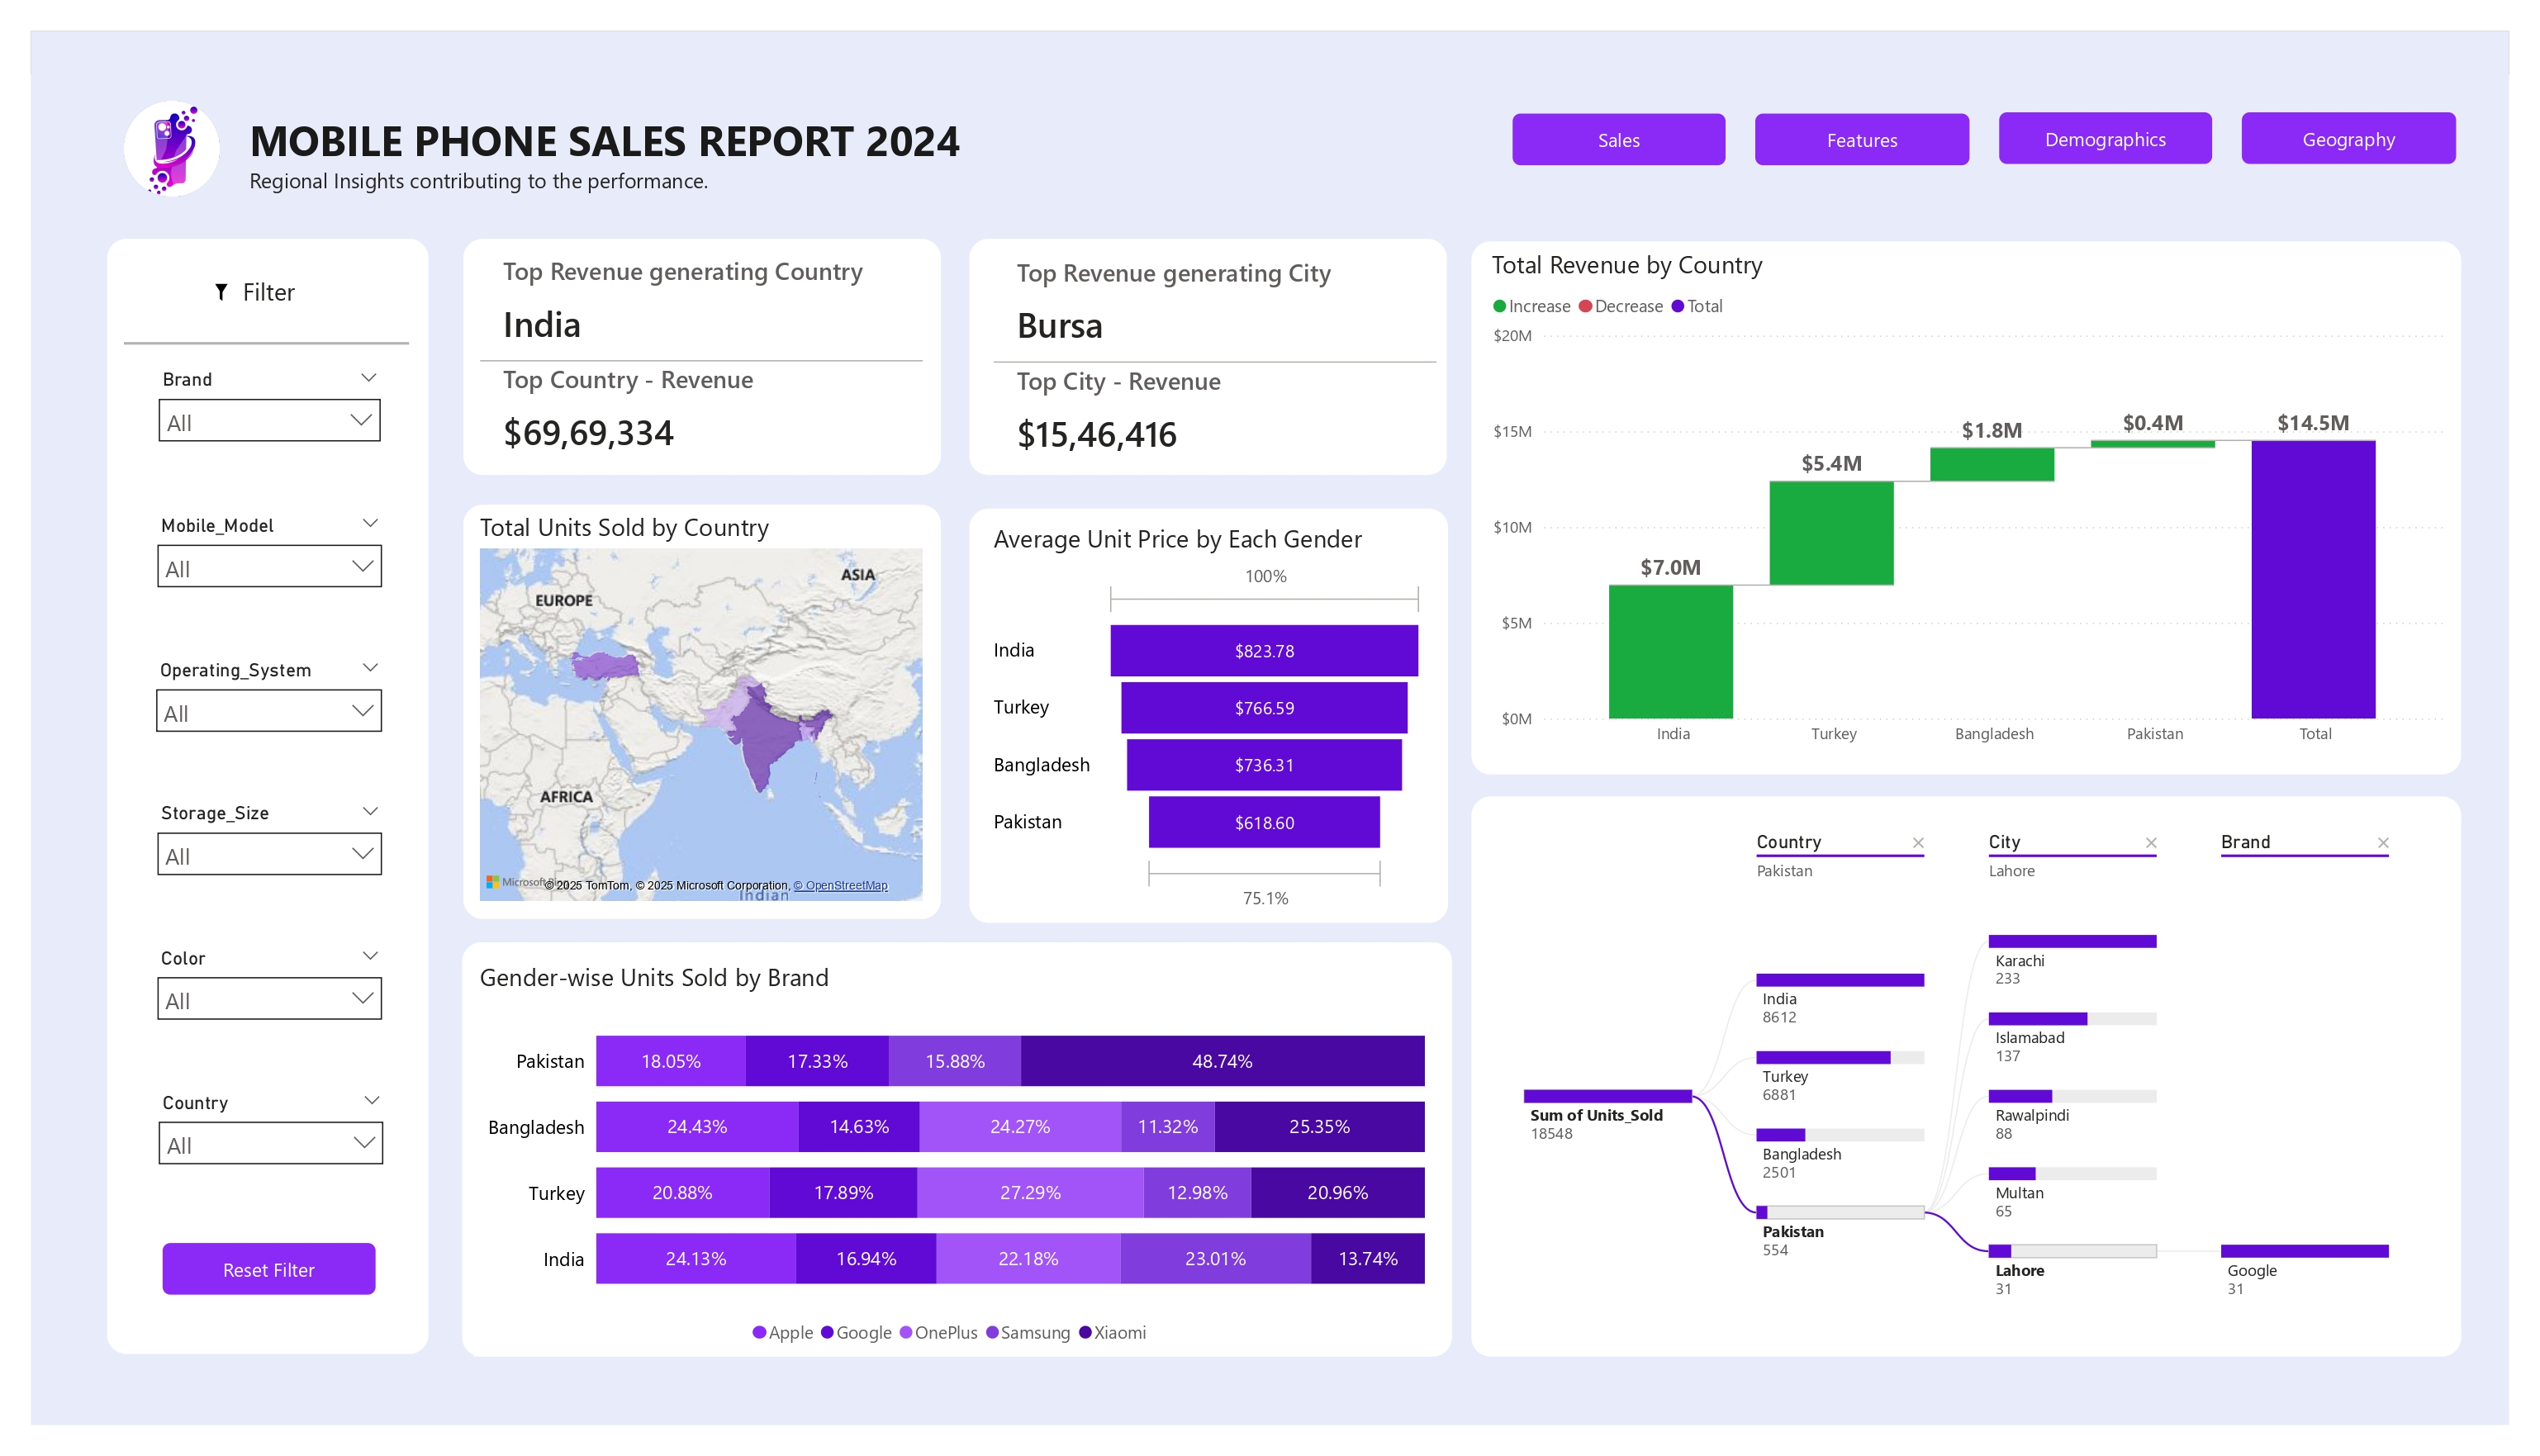

The page's visual inventory and layout, read from the dashboard file:
{"tool":"powerbi","page":{"name":"Geography","canvas":[1920,1080],"ordinal":3},"visuals":[{"type":"textbox","title":"Filter","box":[1116,593.3,766.7,433.3],"z":0},{"type":"textbox","title":"Filter","box":[334.9,367.1,370.5,320.7],"z":1000},{"type":"textbox","title":"Filter","box":[58.7,161.3,249.3,864],"z":2000},{"type":"shape","box":[72,166.7,221.3,150.7],"z":3000},{"type":"textbox","box":[164,57,616,76],"z":4000,"group":"g1"},{"type":"textbox","title":"Filter","box":[334.7,161.3,370.7,182.7],"z":4000},{"type":"slicer","fields":{"Values":["Dim_Products.Brand"]},"box":[88.5,257.2,192.9,71.8],"z":5000},{"type":"slicer","fields":{"Values":["Dim_Products.Operating_System"]},"box":[87.4,481.7,194.2,70.5],"z":6000},{"type":"slicer","fields":{"Values":["Dim_Products.Storage_Size"]},"box":[87.9,593.3,193.7,70.5],"z":7000},{"type":"slicer","fields":{"Values":["Dim_Products.Color"]},"box":[87.9,705,193.7,70.5],"z":8000},{"type":"slicer","fields":{"Values":["Dim_Products.Mobile_Model"]},"box":[87.9,370.1,193.7,70.5],"z":9000},{"type":"slicer","fields":{"Values":["Dim_Locations.Country"]},"box":[88.5,816.6,194.2,70],"z":10000},{"type":"actionButton","box":[102.4,939,164.9,39.9],"z":13000},{"type":"cardVisual","fields":{"Data":["Dim_Locations.Top Revenue generating Country","Dim_Locations.Top Country - Revenue"]},"box":[342.7,166.7,353.3,177.3],"z":15000},{"type":"group","id":"g1","title":"Group 1","box":[164,57,616,76],"z":16000},{"type":"textbox","title":"Filter","box":[726.7,161.3,370.7,182.7],"z":17000},{"type":"cardVisual","fields":{"Data":["Dim_Locations.Top Revenue generating City","Dim_Locations.Top City - Revenue"]},"box":[741.3,168,353.3,178.7],"z":18000},{"type":"textbox","title":"Filter","box":[333.9,705.9,767.4,320.7],"z":19000},{"type":"textbox","title":"Filter","box":[727.1,369.8,370.5,320.7],"z":20000},{"type":"funnel","title":"Average Unit Price by Each Gender","fields":{"Y":["Avg(Fact_Sales.Price)"],"Category":["Dim_Locations.Country"]},"box":[741.3,380,344,308],"z":21000},{"type":"hundredPercentStackedBarChart","title":"Gender-wise Units Sold by Brand","fields":{"Category":["Dim_Locations.Country"],"Y":["Sum(Fact_Sales.Units_Sold)"],"Series":["Fact_Sales.Brand"]},"box":[342.7,720,742.7,306.7],"z":22000},{"type":"filledMap","fields":{"Category":["Dim_Locations.Country"]},"box":[342.7,370.7,353.3,308],"z":23000},{"type":"decompositionTreeVisual","fields":{"ExplainBy":["Dim_Locations.Country","Dim_Locations.City","Fact_Sales.Brand"],"Analyze":["Sum(Fact_Sales.Units_Sold)"]},"box":[1126.7,602.7,748,422.7],"z":24000},{"type":"textbox","title":"Filter","box":[1116,162.7,766.7,413.3],"z":25000},{"type":"waterfallChart","title":"Total Revenue by Country","fields":{"Category":["Dim_Locations.Country"],"Y":["Sum(Fact_Sales.Total_Revenue)"]},"box":[1126.7,168,748,394.7],"z":26000},{"type":"actionButton","box":[1524.9,62.7,165.3,40],"z":26001},{"type":"actionButton","box":[1148,64,165.3,40],"z":26002},{"type":"actionButton","box":[1713.3,62.7,165.3,40],"z":26003},{"type":"actionButton","box":[1336.4,64,165.3,40],"z":26004},{"type":"image","box":[0,49.3,217.3,84],"z":26005},{"type":"image","box":[109.3,189.3,76,26.7],"z":26006}]}

Visuals, with their boxes on the page's 1920x1080 design canvas (x1, y1, x2, y2). These are canvas units, not pixel positions in the 2540x1456 screenshot, which may show the page scaled, cropped or inside an application window:
"Filter" textbox: left=1116, top=593, right=1883, bottom=1027
"Filter" textbox: left=335, top=367, right=705, bottom=688
"Filter" textbox: left=59, top=161, right=308, bottom=1025
shape: left=72, top=167, right=293, bottom=317
textbox: left=164, top=57, right=780, bottom=133
"Filter" textbox: left=335, top=161, right=705, bottom=344
slicer - Dim_Products.Brand: left=88, top=257, right=281, bottom=329
slicer - Dim_Products.Operating_System: left=87, top=482, right=282, bottom=552
slicer - Dim_Products.Storage_Size: left=88, top=593, right=282, bottom=664
slicer - Dim_Products.Color: left=88, top=705, right=282, bottom=776
slicer - Dim_Products.Mobile_Model: left=88, top=370, right=282, bottom=441
slicer - Dim_Locations.Country: left=88, top=817, right=283, bottom=887
actionButton: left=102, top=939, right=267, bottom=979
cardVisual - Dim_Locations.Top Revenue generating Country x Dim_Locations.Top Country - Revenue: left=343, top=167, right=696, bottom=344
"Group 1" group: left=164, top=57, right=780, bottom=133
"Filter" textbox: left=727, top=161, right=1097, bottom=344
cardVisual - Dim_Locations.Top Revenue generating City x Dim_Locations.Top City - Revenue: left=741, top=168, right=1095, bottom=347
"Filter" textbox: left=334, top=706, right=1101, bottom=1027
"Filter" textbox: left=727, top=370, right=1098, bottom=690
"Average Unit Price by Each Gender" funnel: left=741, top=380, right=1085, bottom=688
"Gender-wise Units Sold by Brand" hundredPercentStackedBarChart: left=343, top=720, right=1085, bottom=1027
filledMap - Dim_Locations.Country: left=343, top=371, right=696, bottom=679
decompositionTreeVisual - Dim_Locations.Country x Dim_Locations.City: left=1127, top=603, right=1875, bottom=1025
"Filter" textbox: left=1116, top=163, right=1883, bottom=576
"Total Revenue by Country" waterfallChart: left=1127, top=168, right=1875, bottom=563
actionButton: left=1525, top=63, right=1690, bottom=103
actionButton: left=1148, top=64, right=1313, bottom=104
actionButton: left=1713, top=63, right=1879, bottom=103
actionButton: left=1336, top=64, right=1502, bottom=104
image: left=0, top=49, right=217, bottom=133
image: left=109, top=189, right=185, bottom=216
